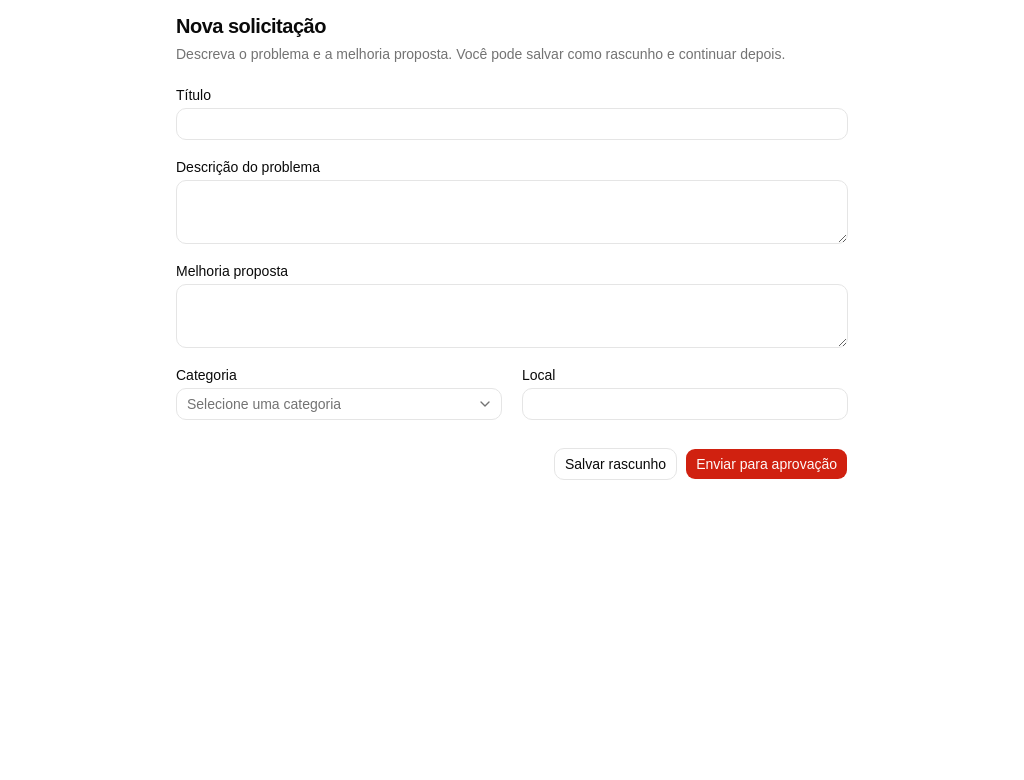
Test: NewSolicitationPage › mostra erro quando a criação falha
The width and height of the screenshot is (1024, 780).
Type "Piso escorregadio" into the field labelled "Título" at (512, 124), box [176,108,848,140]
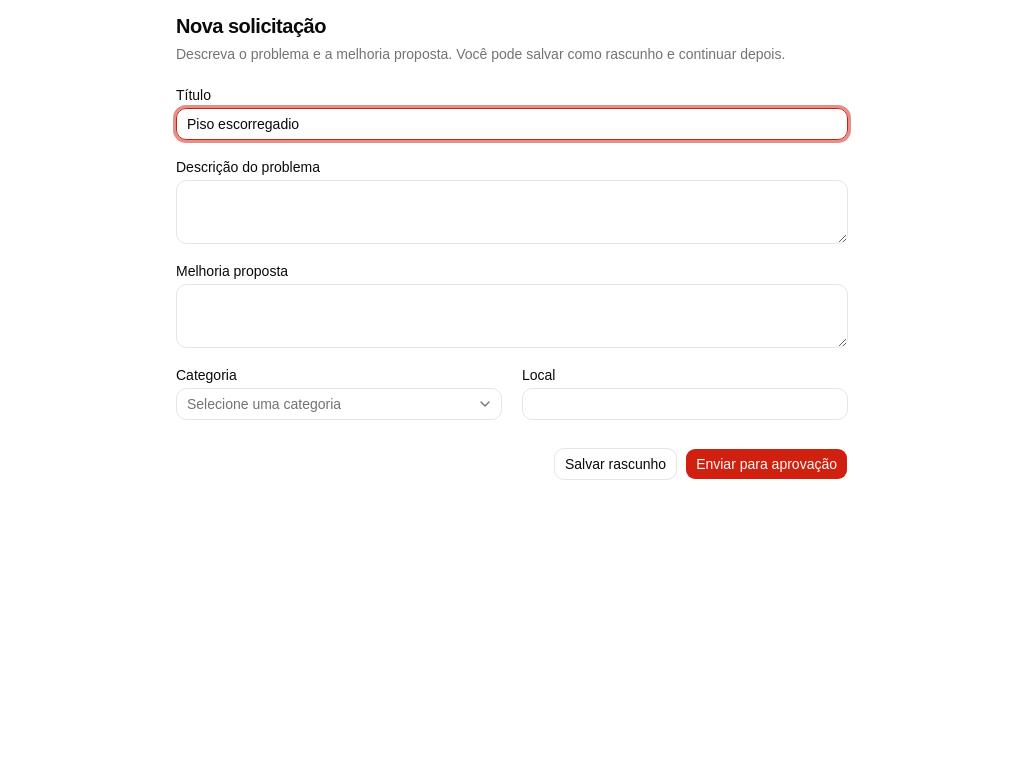
Click the button "Salvar rascunho" at (616, 464), box [554,448,677,480]
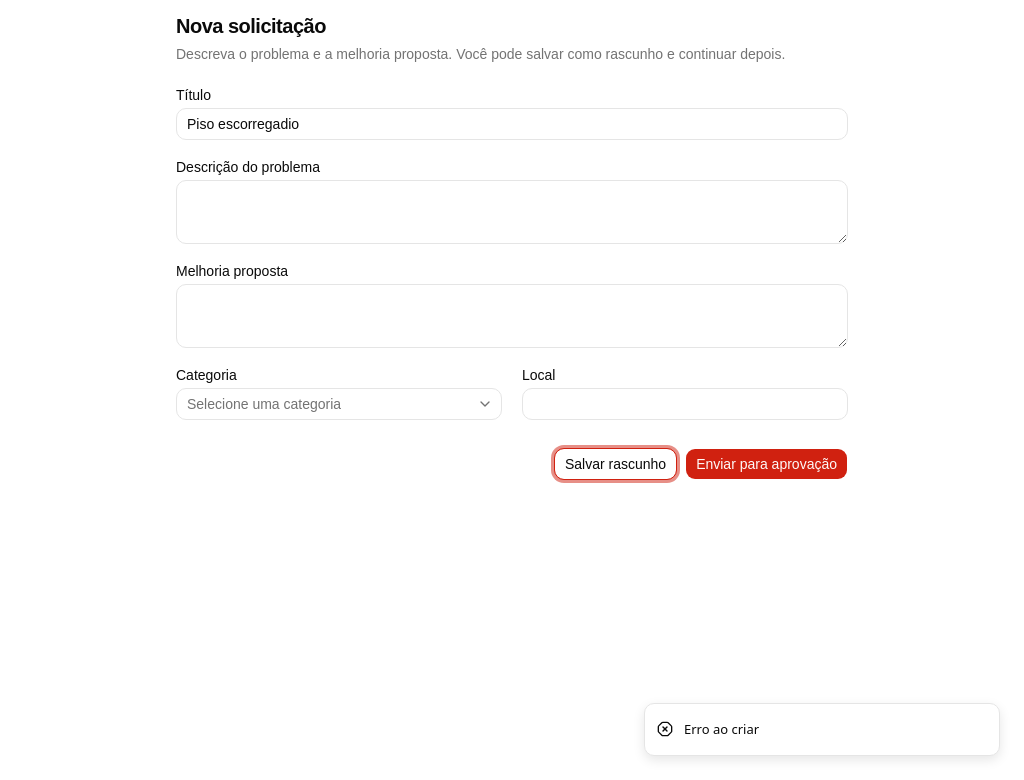
Check: the text "Erro ao criar" is shown, box [684,720,759,739]
